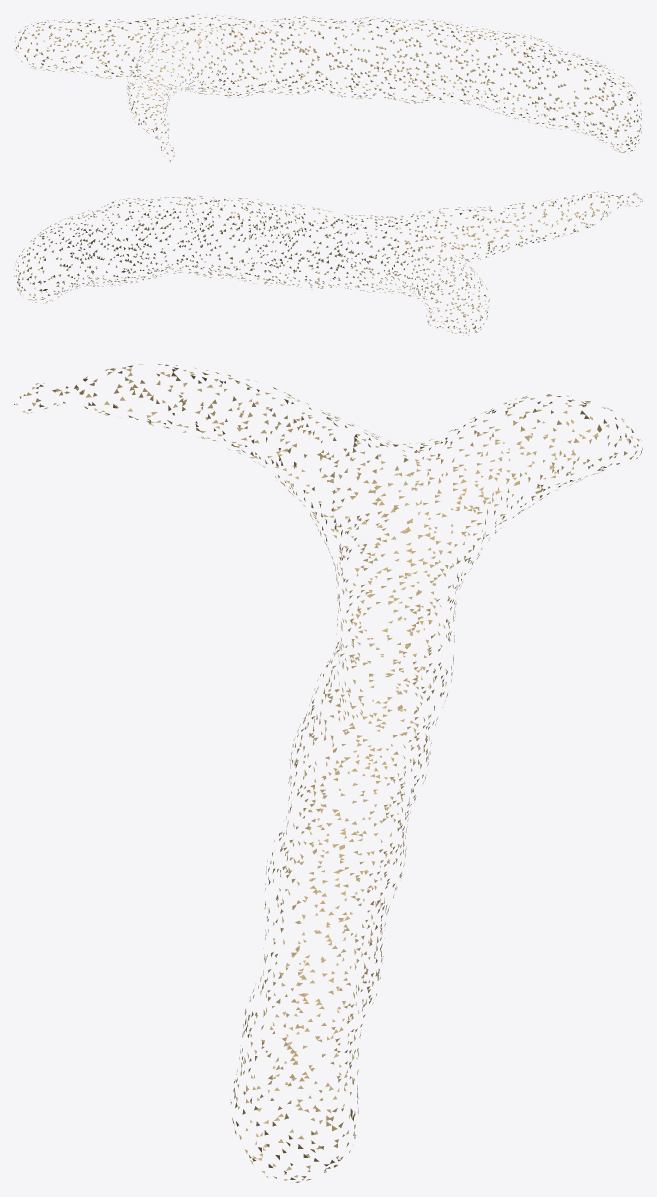
The model's file is morph_007.glb.
3 views of the same model, one above another, from view 1: azimuth 30°, elevation 25°; view 2: azimuth 150°, elevation 25°; view 3: azimuth 270°, elevation 25° (orthographic). The views are drawn at different scales.
Size of the model in its own units: 143 by 51.16 by 78.55.
